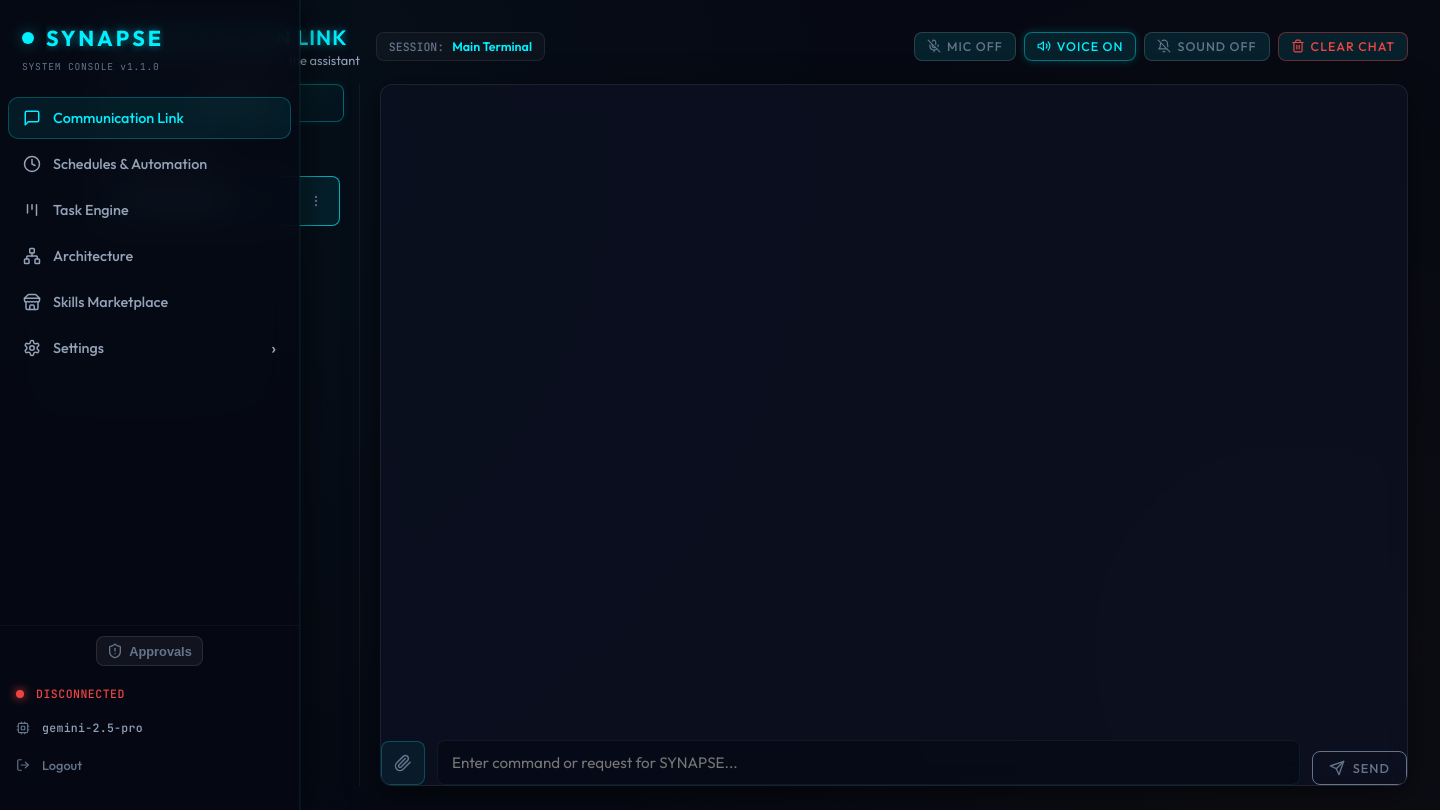
Scenario: App Component › renders main application when authenticated
The image size is (1440, 810).
Expected: the text "Communication Link" is shown, [53,109,184,127]
Click the text "Settings": (78, 348) [53,339,104,357]
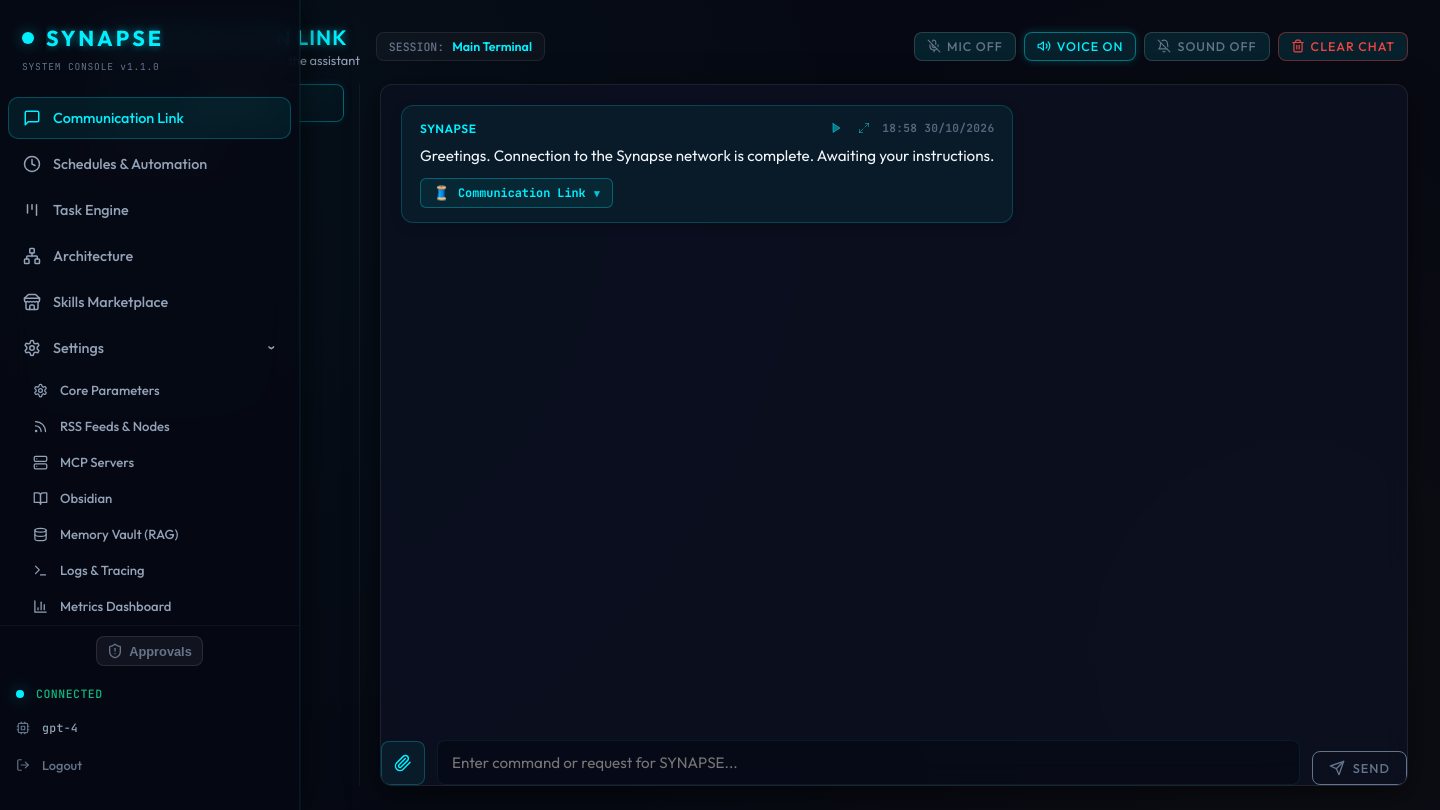
Now the text "Core Parameters" is shown, box [60,382,160,398]
